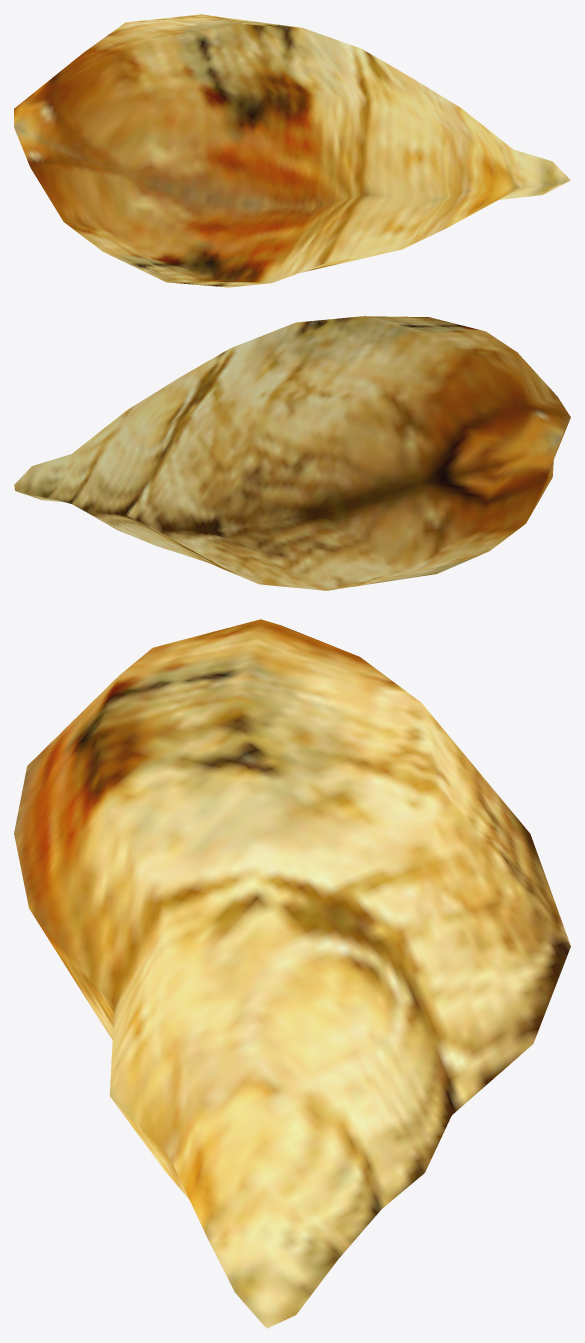
File: SeaShell-13_LOD0_newsmall.glb
3 renders of one model, top to bottom at view 1: azimuth 30°, elevation 25°; view 2: azimuth 150°, elevation 25°; view 3: azimuth 270°, elevation 25°, orthographic. The views are drawn at different scales.
Visible parts, largest first — view 1: SeaShell-13_high; view 2: SeaShell-13_high; view 3: SeaShell-13_high.
Boxes of the visible parts, bbox=[...] form: SeaShell-13_high: bbox=[14, 14, 570, 287]; SeaShell-13_high: bbox=[14, 316, 570, 590]; SeaShell-13_high: bbox=[14, 619, 570, 1328].
Size of the model in its own units: 0.1443 by 0.0676 by 0.0827.
Materials: 1 (1 with a texture image).
